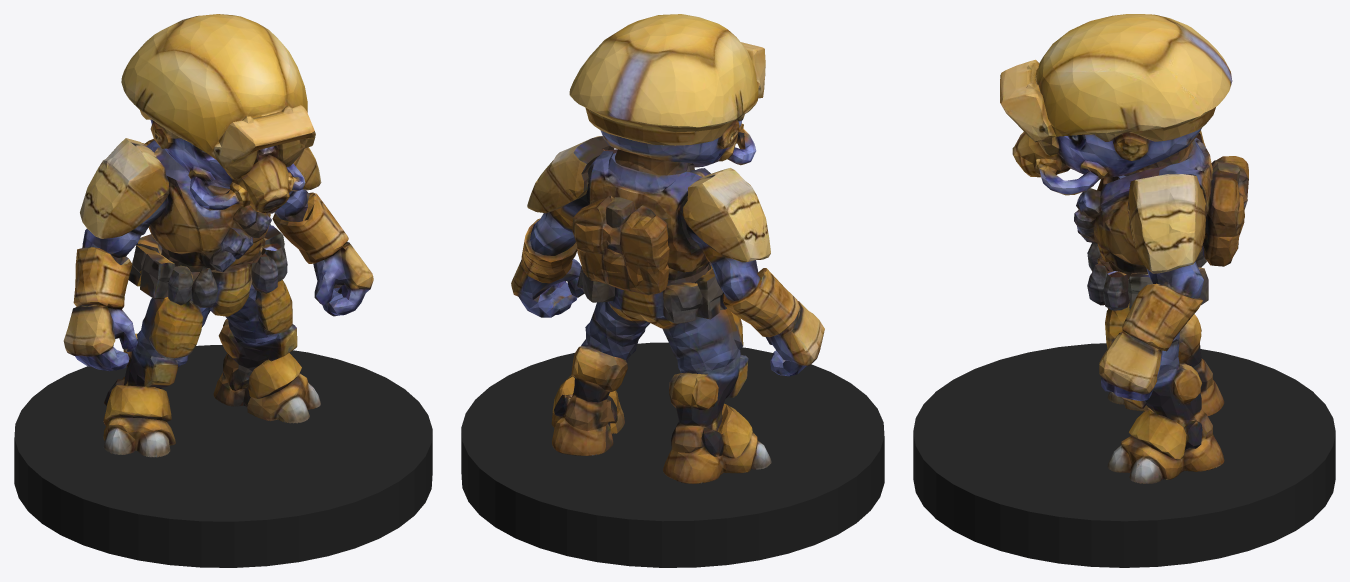
File: pf-assault-grenadier.glb
3 views of the same model, side by side, from view 1: azimuth 30°, elevation 25°; view 2: azimuth 150°, elevation 25°; view 3: azimuth 270°, elevation 25° (orthographic).
Parts seen in each view (by area): view 1: figure, base; view 2: figure, base; view 3: figure, base.
Part boxes in pixels (x1,y1,x2,y2): figure: (63,14,373,457); base: (14,345,432,567); figure: (511,14,824,483); base: (461,342,884,567); figure: (1000,14,1248,483); base: (913,343,1335,567).
Size of the model in its own units: 0.9843 by 1.17 by 0.9843.
Materials: 2 (1 with a texture image).
